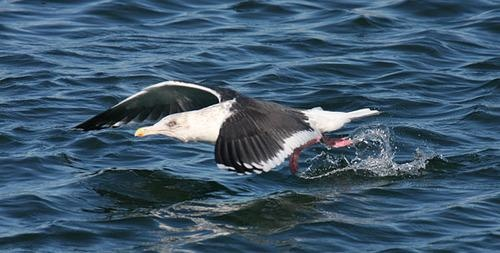bird: (66, 82, 378, 176)
